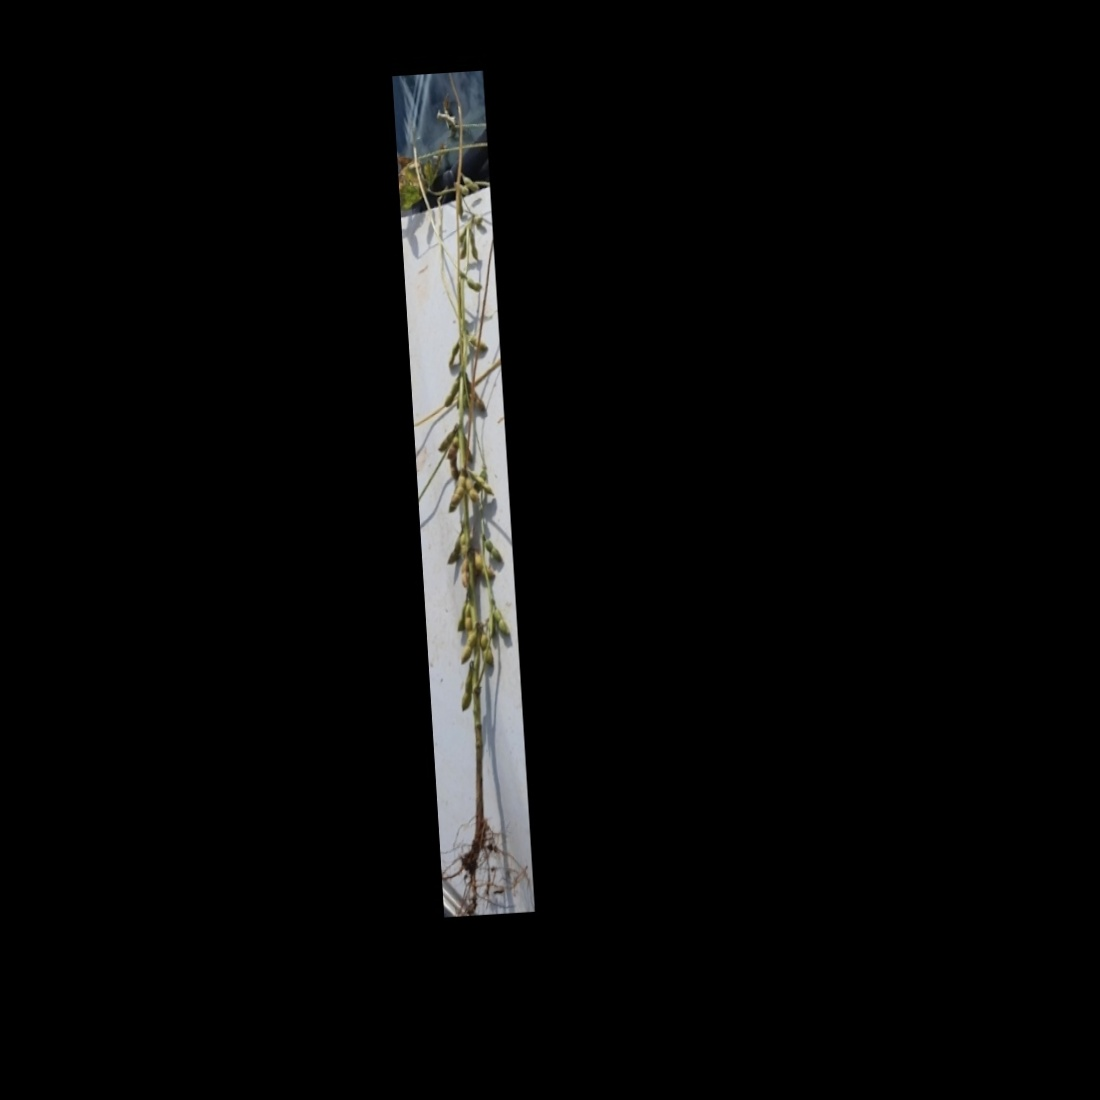pod: (456, 668, 476, 713), (468, 469, 497, 499), (472, 551, 496, 585), (490, 604, 512, 638), (458, 632, 477, 667), (482, 537, 504, 563), (479, 631, 494, 667), (460, 173, 480, 194), (467, 231, 480, 263), (459, 555, 470, 591), (445, 341, 460, 368), (464, 477, 479, 504), (467, 333, 489, 352), (462, 602, 474, 632), (465, 277, 484, 293)
soy: (399, 111, 528, 880)
